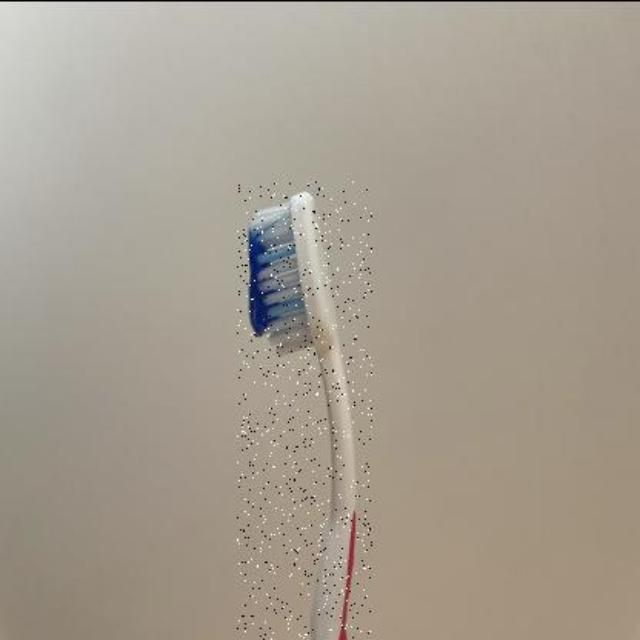toothbrush: (236, 180, 372, 640)
